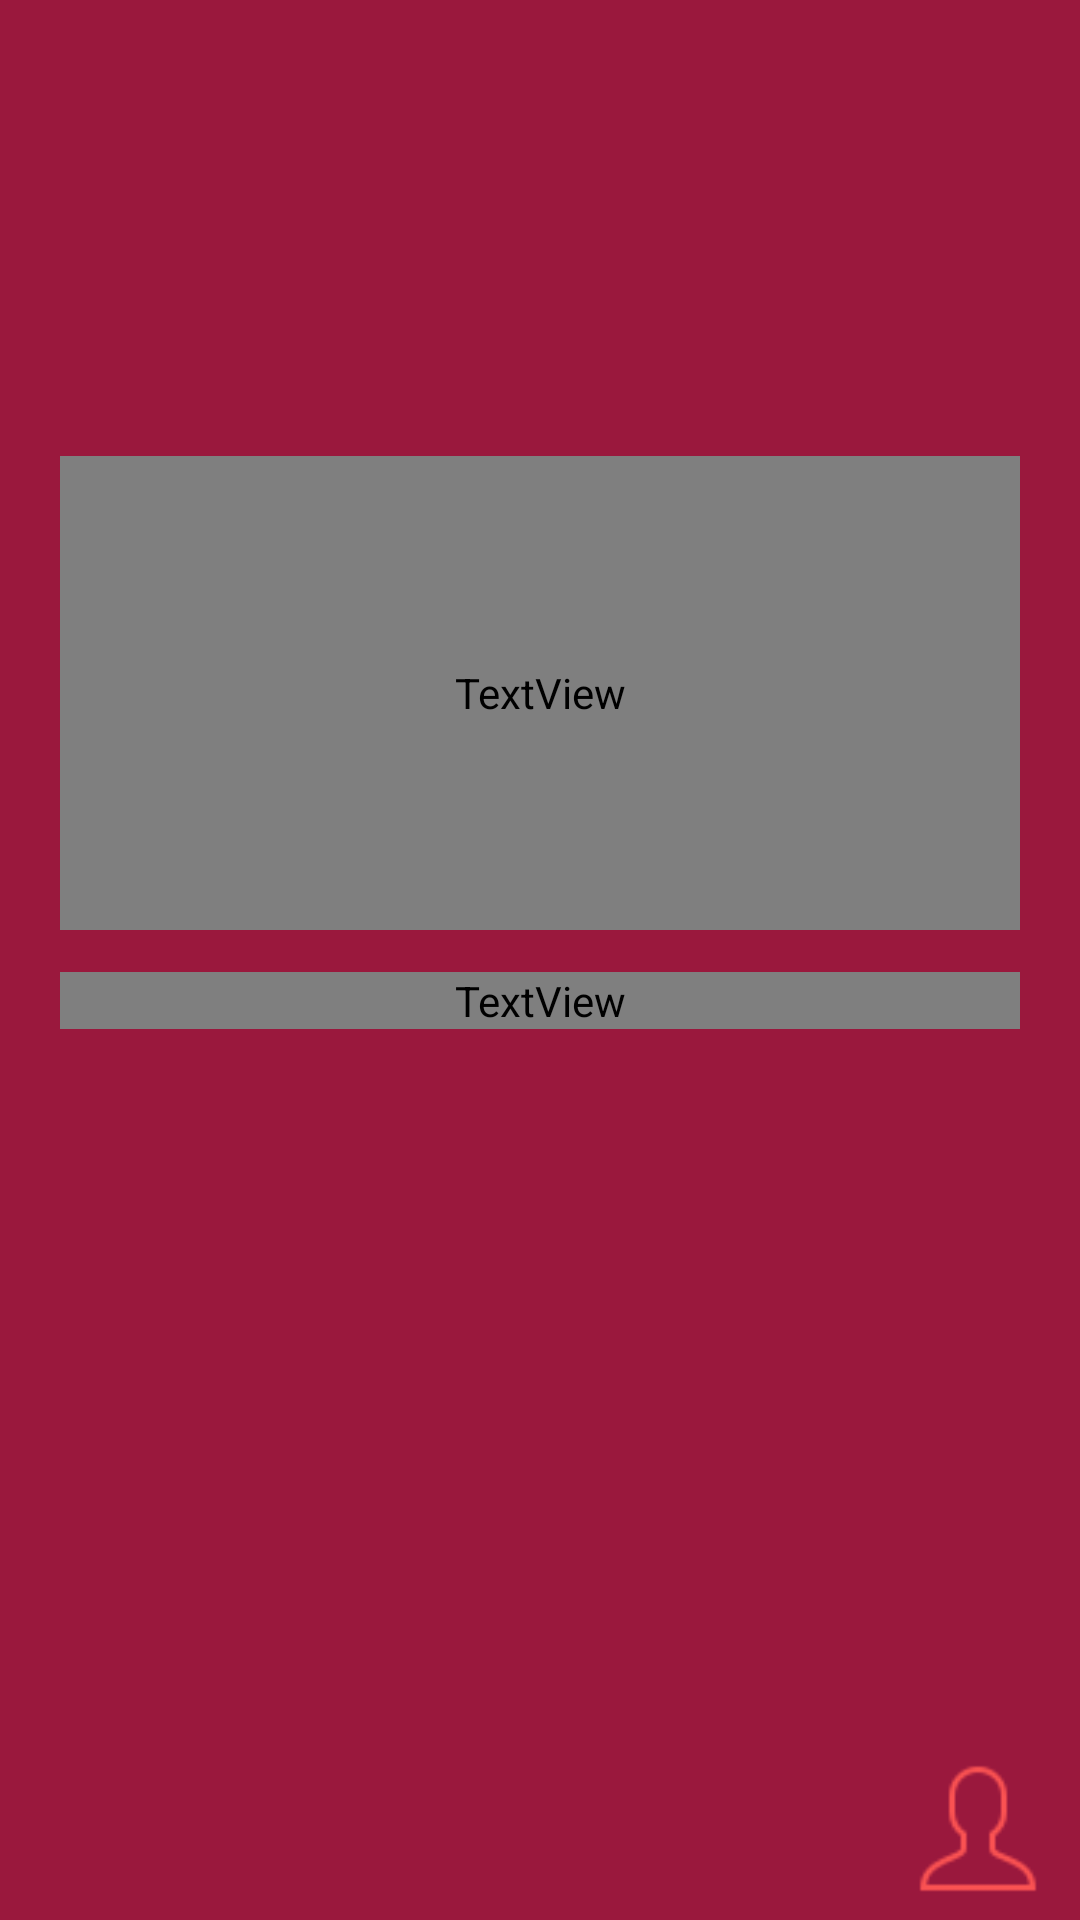

Where to tap for icons on this 1080px×1920px app screen, as (x,y):
profile: (978,1828)
